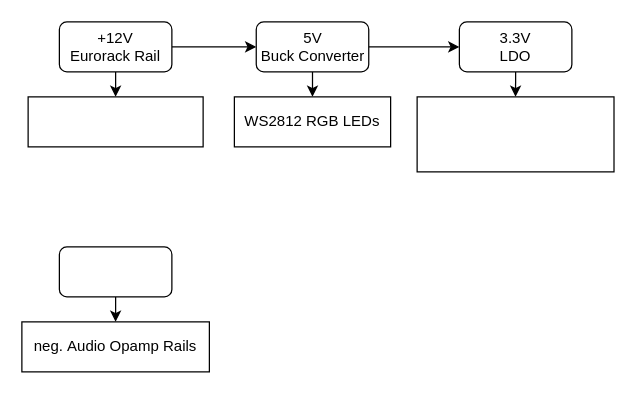
Image size: 636x394. Some labels were removed from this diagram. Here are the shapes that lost their labels. From the top down, the centre of each, then its label:
At (x=115, y=121): "pos. Audio Opamp Rails".
At (x=515, y=134): "MCU, Audio Codec, pos. CV Opamp Rails".
At (x=115, y=271): "-12V Eurorack Rail".
